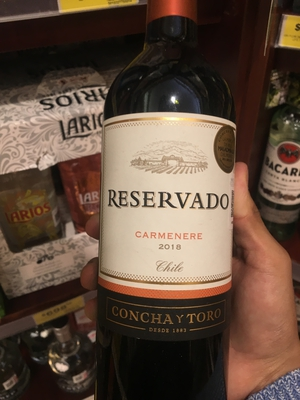reservado carmenere: (86, 8, 257, 400)
